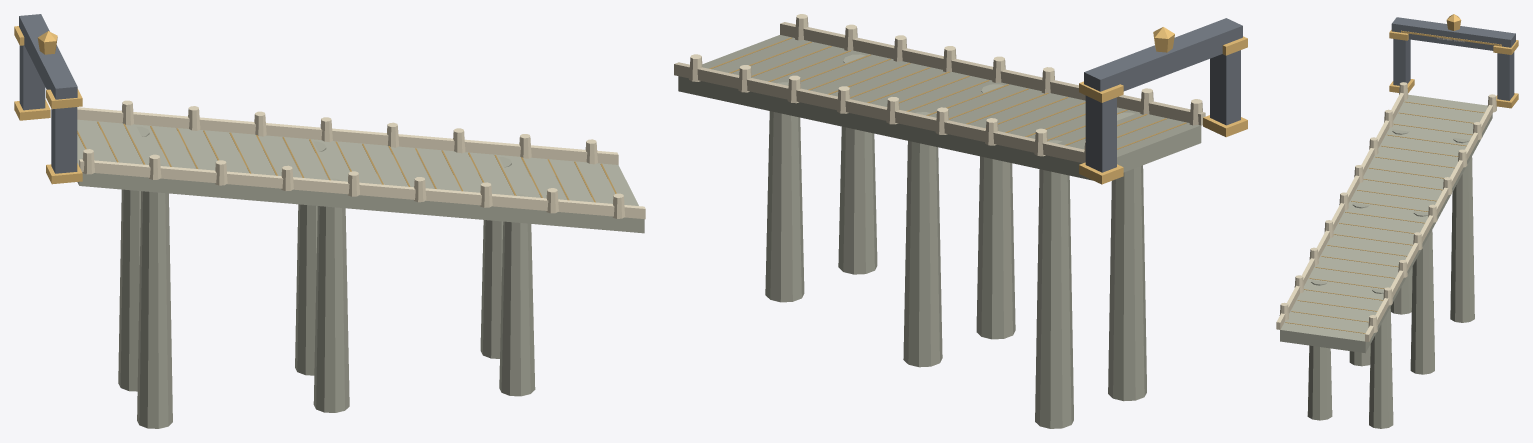
Rendered from Branch_CelestialSummit.glb.
The picture shows the model from 3 angles, left to right: view 1: azimuth 30°, elevation 25°; view 2: azimuth 150°, elevation 25°; view 3: azimuth 270°, elevation 25°; orthographic projection. The views are drawn at different scales.
Parts seen in each view (by area): view 1: Branch_CelestialSummit_Sanctuary limestone_-3_0, Branch_CelestialSummit_Warm ivory_-3_0, Branch_CelestialSummit_Sanctuary limestone_-2_0, Branch_CelestialSummit_CelestialSummit_dark_-3_0, Branch_CelestialSummit_Warm ivory_-2_0, Branch_CelestialSummit_CelestialSummit_accent_-3_0, Branch_CelestialSummit_CelestialSummit_dark_-3_1, Branch_CelestialSummit_Aged gold_-3_0, Branch_CelestialSummit_Aged gold_-2_0, Branch_CelestialSummit_CelestialSummit_accent_-3_1; view 2: Branch_CelestialSummit_Sanctuary limestone_-3_0, Branch_CelestialSummit_Warm ivory_-3_0, Branch_CelestialSummit_Sanctuary limestone_-2_0, Branch_CelestialSummit_CelestialSummit_dark_-3_0, Branch_CelestialSummit_CelestialSummit_dark_-3_1, Branch_CelestialSummit_Warm ivory_-2_0, Branch_CelestialSummit_Aged gold_-3_0, Branch_CelestialSummit_Aged gold_-2_0, Branch_CelestialSummit_CelestialSummit_accent_-3_0, Branch_CelestialSummit_CelestialSummit_accent_-3_1; view 3: Branch_CelestialSummit_Sanctuary limestone_-3_0, Branch_CelestialSummit_Warm ivory_-3_0, Branch_CelestialSummit_Sanctuary limestone_-2_0, Branch_CelestialSummit_CelestialSummit_dark_-3_0, Branch_CelestialSummit_Aged gold_-3_0, Branch_CelestialSummit_Aged gold_-2_0, Branch_CelestialSummit_Warm ivory_-2_0, Branch_CelestialSummit_CelestialSummit_dark_-3_1, Branch_CelestialSummit_CelestialSummit_accent_-3_0, Branch_CelestialSummit_CelestialSummit_accent_-3_1.
Boxes of the visible parts, x1,y1,x2,y2 form: Branch_CelestialSummit_Sanctuary limestone_-3_0: [77, 119, 644, 428]; Branch_CelestialSummit_Warm ivory_-3_0: [77, 100, 645, 219]; Branch_CelestialSummit_Sanctuary limestone_-2_0: [480, 157, 535, 396]; Branch_CelestialSummit_CelestialSummit_dark_-3_0: [19, 14, 77, 173]; Branch_CelestialSummit_Warm ivory_-2_0: [387, 122, 625, 218]; Branch_CelestialSummit_CelestialSummit_accent_-3_0: [37, 31, 82, 184]; Branch_CelestialSummit_CelestialSummit_dark_-3_1: [19, 45, 45, 110]; Branch_CelestialSummit_Aged gold_-3_0: [77, 121, 383, 184]; Branch_CelestialSummit_Aged gold_-2_0: [388, 146, 616, 202]; Branch_CelestialSummit_CelestialSummit_accent_-3_1: [14, 26, 50, 120]; Branch_CelestialSummit_Sanctuary limestone_-3_0: [678, 35, 1201, 428]; Branch_CelestialSummit_Warm ivory_-3_0: [674, 22, 1205, 163]; Branch_CelestialSummit_Sanctuary limestone_-2_0: [765, 54, 877, 302]; Branch_CelestialSummit_CelestialSummit_dark_-3_0: [1084, 18, 1242, 125]; Branch_CelestialSummit_CelestialSummit_dark_-3_1: [1085, 95, 1116, 172]; Branch_CelestialSummit_Warm ivory_-2_0: [689, 14, 906, 113]; Branch_CelestialSummit_Aged gold_-3_0: [899, 75, 1186, 149]; Branch_CelestialSummit_Aged gold_-2_0: [709, 37, 949, 102]; Branch_CelestialSummit_CelestialSummit_accent_-3_0: [1153, 27, 1247, 137]; Branch_CelestialSummit_CelestialSummit_accent_-3_1: [1079, 81, 1123, 184]; Branch_CelestialSummit_Sanctuary limestone_-3_0: [1280, 94, 1492, 374]; Branch_CelestialSummit_Warm ivory_-3_0: [1276, 37, 1496, 341]; Branch_CelestialSummit_Sanctuary limestone_-2_0: [1307, 280, 1393, 428]; Branch_CelestialSummit_CelestialSummit_dark_-3_0: [1391, 17, 1515, 85]; Branch_CelestialSummit_Aged gold_-3_0: [1339, 101, 1484, 233]; Branch_CelestialSummit_Aged gold_-2_0: [1285, 234, 1412, 333]; Branch_CelestialSummit_Warm ivory_-2_0: [1279, 232, 1422, 332]; Branch_CelestialSummit_CelestialSummit_dark_-3_1: [1497, 52, 1514, 100]; Branch_CelestialSummit_CelestialSummit_accent_-3_0: [1389, 14, 1501, 93]; Branch_CelestialSummit_CelestialSummit_accent_-3_1: [1493, 40, 1518, 108].
Size of the model in its own units: 140 by 93 by 75.3.
